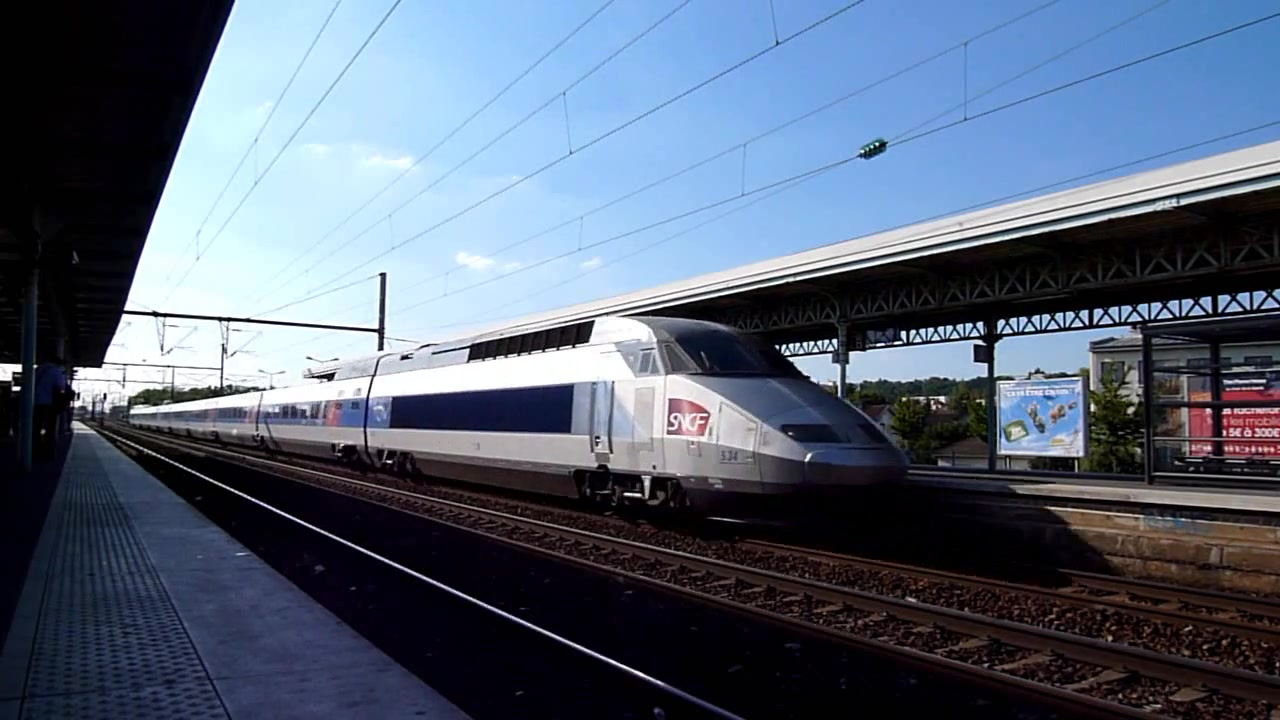train: (122, 311, 917, 521)
